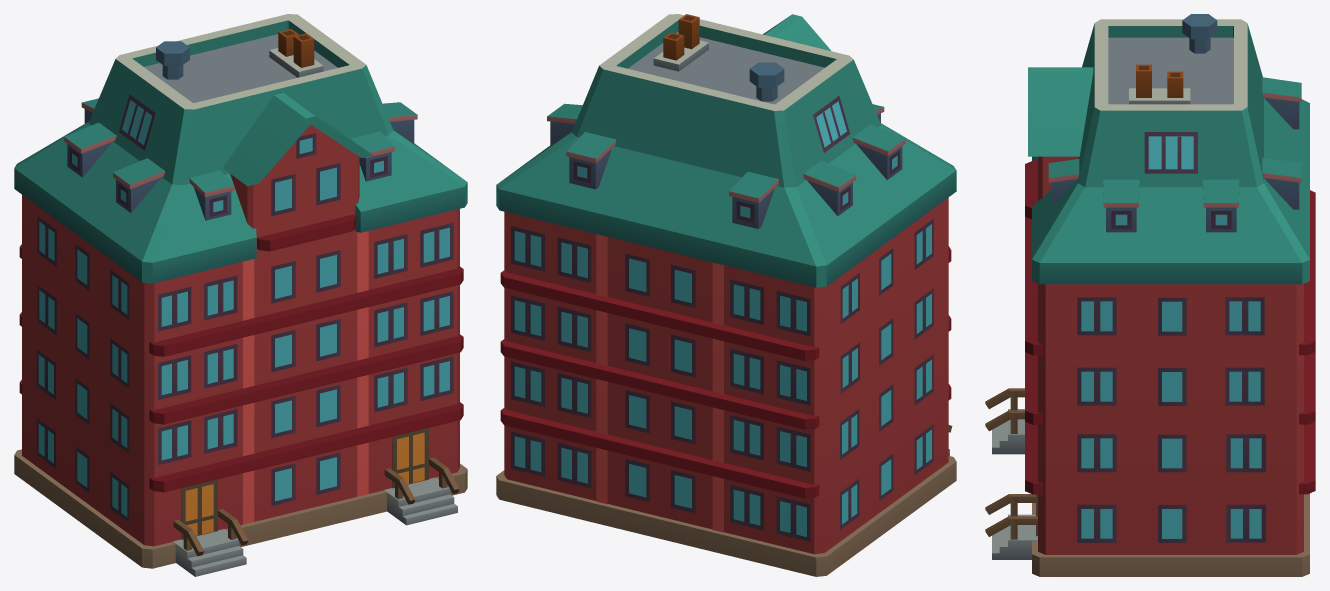
Rendered from Building_cartoon_36.fbx.
3 renders of one model, left to right at view 1: azimuth 30°, elevation 25°; view 2: azimuth 150°, elevation 25°; view 3: azimuth 270°, elevation 25°, orthographic. The views are drawn at different scales.
Parts seen in each view (by area): view 1: Building_cartoon_36; view 2: Building_cartoon_36; view 3: Building_cartoon_36.
Boxes of the visible parts, bbox=[...] form: Building_cartoon_36: bbox=[14, 14, 467, 576]; Building_cartoon_36: bbox=[496, 14, 956, 576]; Building_cartoon_36: bbox=[985, 14, 1315, 576].
Bounding box in the file's own units: 1663 × 2151 × 1422.
